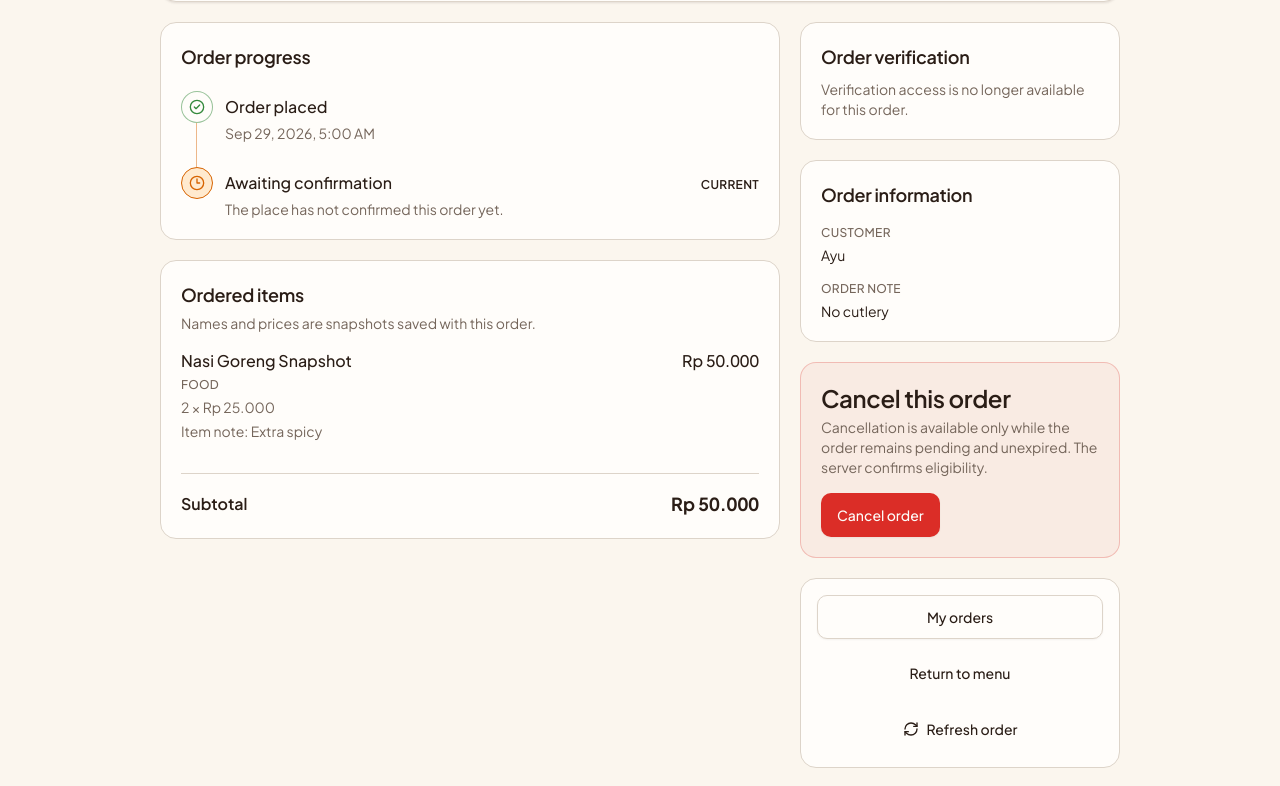
Test: customer order detail page › lets a backend status conflict replace the stale cancellation action
(page scrolled)
What coordinates should you click on to do the following:
click the button "Cancel order"
I would click on:
 (880, 515)
Its box is [821,493,940,537].
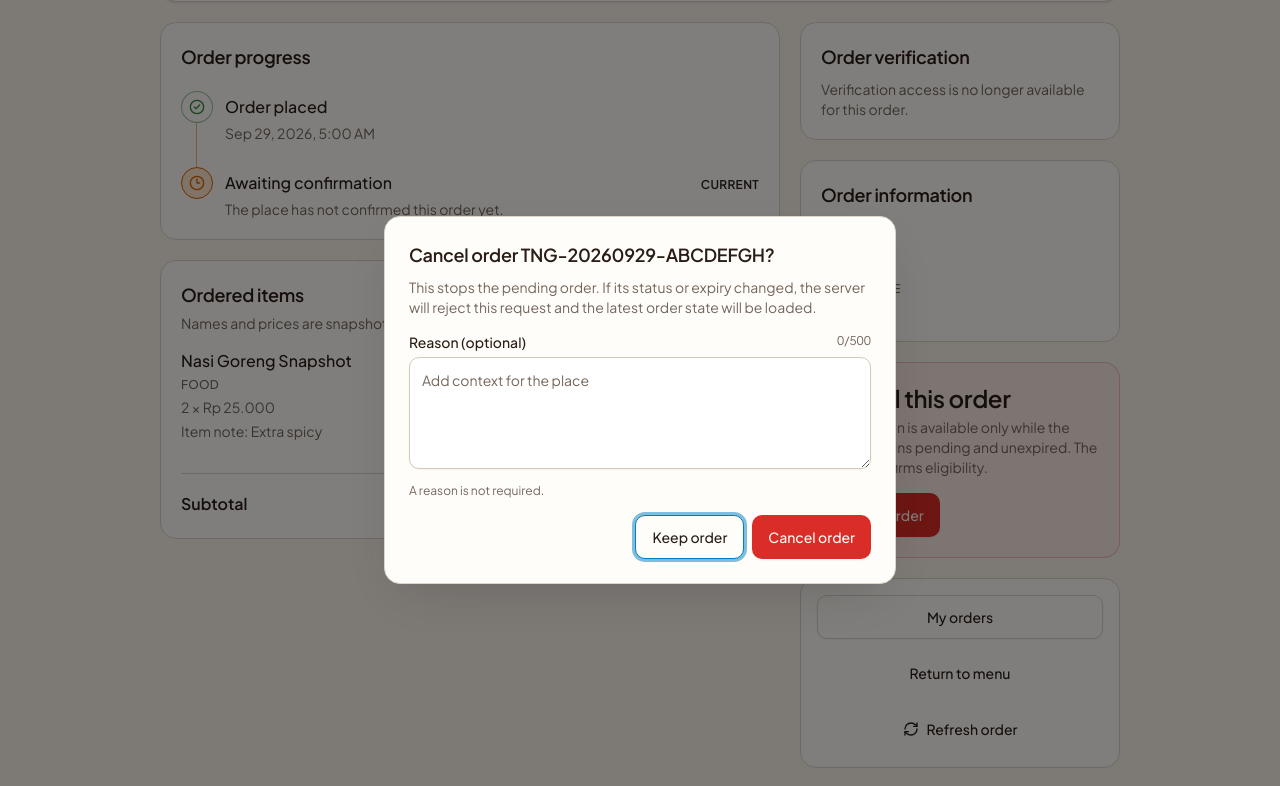
What coordinates should you click on to do the following:
click the button "Cancel order"
I would click on:
 (812, 537)
Its box is [752,515,871,559].
(page scrolled)
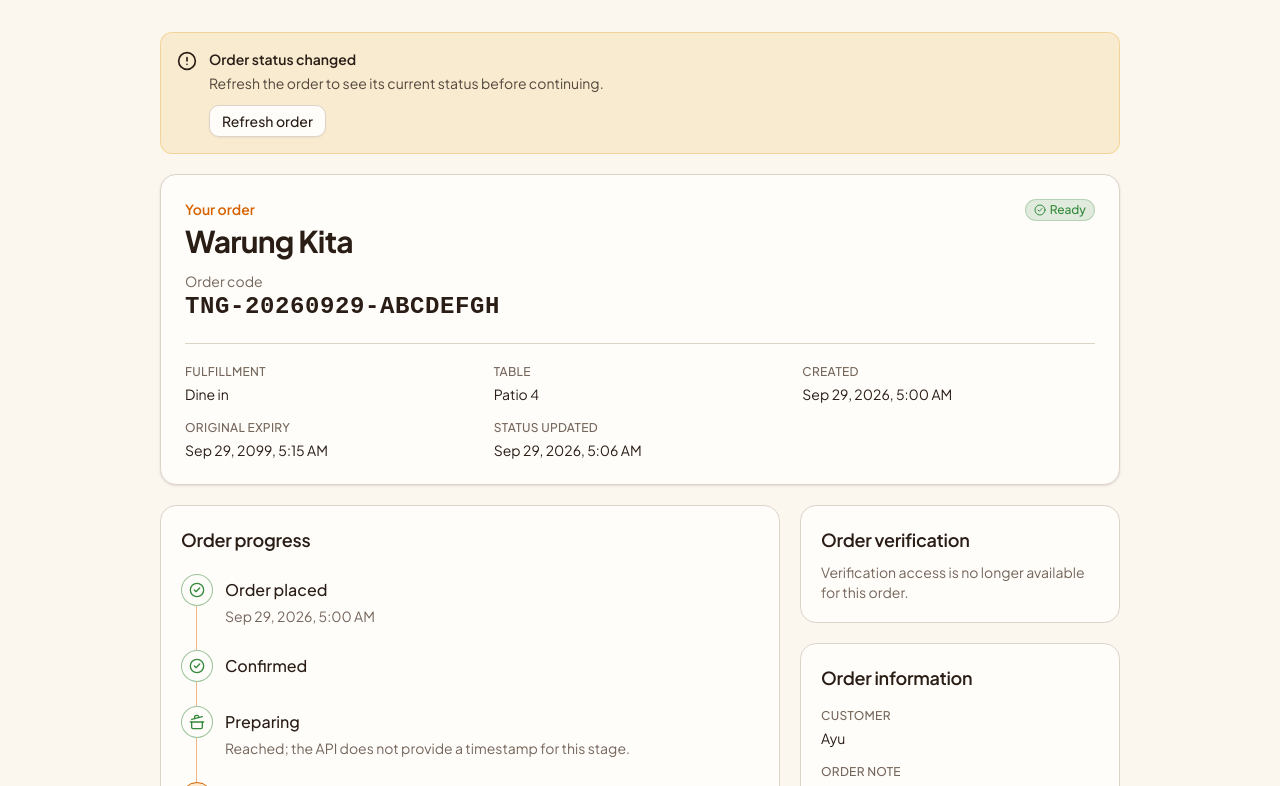
Expected: the text "Order status changed" is shown, [209,50,356,68]
Expected: the element named "Order status: Ready" is shown, [1025,199,1095,221]
Expected: the button "Cancel order" is gone
